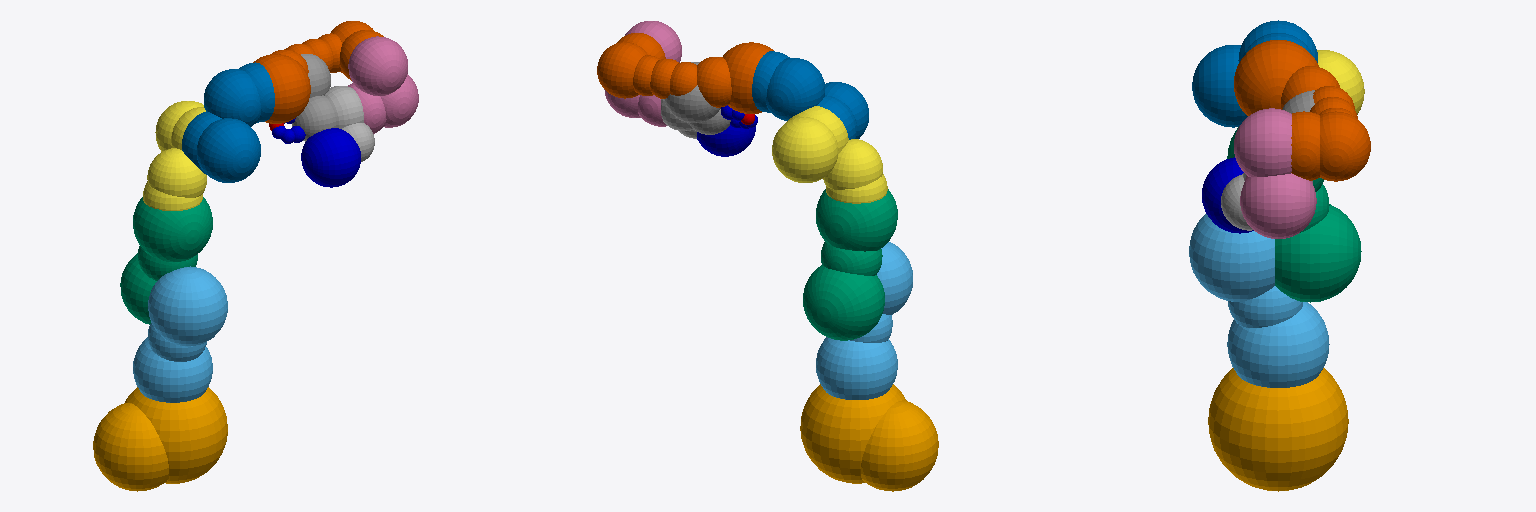
robot.urdf — panda:
<robot name="panda">
    <material name="Blue">
        <color rgba="0.0 0.0 0.8 1.0"/>
    </material>
    <material name="Green">
        <color rgba="0.0 0.8 0.0 1.0"/>
    </material>
    <material name="Grey">
        <color rgba="0.7 0.7 0.7 1.0"/>
    </material>
    <material name="Grey2">
        <color rgba="0.9 0.9 0.9 1.0"/>
    </material>
    <material name="Red">
        <color rgba="0.8 0.0 0.0 1.0"/>
    </material>
    <material name="White">
        <color rgba="1.0 1.0 1.0 1.0"/>
    </material>
    <material name="Black">
        <color rgba="0.1 0.1 0.1 1.0"/>
    </material>
    <material name="LightGrey">
        <color rgba="0.6 0.6 0.6 1.0"/>
    </material>
  <link name="panda_link0">
    <inertial>
      <mass value="3.06"/>
      <origin xyz="0.0 0.0 0.0" rpy="0.0 -0.0 0.0"/>
      <inertia ixx="0.3" iyy="0.3" izz="0.3" ixy="0.0" ixz="0.0" iyz="0.0"/>
    </inertial>
    <visual name="visual">
      <origin xyz="0.0 0.0 0.0" rpy="0.0 -0.0 0.0"/>
      <geometry>
        <mesh filename="package://franka/meshes/visual/link0.dae" scale="1.0 1.0 1.0"/>
      </geometry>
      <material name="LightGrey"/>
    </visual>
    <visual name="ball_0">
      <origin xyz="-0.08 0.0 0.02" rpy="0.0 -0.0 0.0"/>
      <geometry>
        <sphere radius="0.09"/>
      </geometry>
    </visual>
    <visual name="ball_1">
      <origin xyz="0.0 0.0 0.04" rpy="0.0 -0.0 0.0"/>
      <geometry>
        <sphere radius="0.11"/>
      </geometry>
    </visual>
    <collision name="collision">
      <origin xyz="0.0 0.0 0.0" rpy="0.0 -0.0 0.0"/>
      <geometry>
        <mesh filename="package://franka/meshes/collision/link0.stl" scale="1.0 1.0 1.0"/>
      </geometry>
    </collision>
  </link>
  <link name="panda_link1">
    <inertial>
      <mass value="2.34"/>
      <origin xyz="0.0 0.0 0.0" rpy="0.0 -0.0 0.0"/>
      <inertia ixx="0.3" iyy="0.3" izz="0.3" ixy="0.0" ixz="0.0" iyz="0.0"/>
    </inertial>
    <visual name="visual">
      <origin xyz="0.0 0.0 0.0" rpy="0.0 -0.0 0.0"/>
      <geometry>
        <mesh filename="package://franka/meshes/visual/link1.dae" scale="1.0 1.0 1.0"/>
      </geometry>
      <material name="LightGrey"/>
    </visual>
    <visual name="ball_0">
      <origin xyz="0.0 -0.06 0.0" rpy="0.0 -0.0 0.0"/>
      <geometry>
        <sphere radius="0.08"/>
      </geometry>
    </visual>
    <visual name="ball_1">
      <origin xyz="0.0 -0.02 -0.08" rpy="0.0 -0.0 0.0"/>
      <geometry>
        <sphere radius="0.06"/>
      </geometry>
    </visual>
    <visual name="ball_2">
      <origin xyz="0.0 0.0 -0.16" rpy="0.0 -0.0 0.0"/>
      <geometry>
        <sphere radius="0.08"/>
      </geometry>
    </visual>
    <collision name="collision">
      <origin xyz="0.0 0.0 0.0" rpy="0.0 -0.0 0.0"/>
      <geometry>
        <mesh filename="package://franka/meshes/collision/link1.stl" scale="1.0 1.0 1.0"/>
      </geometry>
    </collision>
  </link>
  <link name="panda_link2">
    <inertial>
      <mass value="2.36"/>
      <origin xyz="0.0 0.0 0.0" rpy="0.0 -0.0 0.0"/>
      <inertia ixx="0.3" iyy="0.3" izz="0.3" ixy="0.0" ixz="0.0" iyz="0.0"/>
    </inertial>
    <visual name="visual">
      <origin xyz="0.0 0.0 0.0" rpy="0.0 -0.0 0.0"/>
      <geometry>
        <mesh filename="package://franka/meshes/visual/link2.dae" scale="1.0 1.0 1.0"/>
      </geometry>
      <material name="LightGrey"/>
    </visual>
    <visual name="ball_0">
      <origin xyz="0.0 0.0 0.05" rpy="0.0 -0.0 0.0"/>
      <geometry>
        <sphere radius="0.08"/>
      </geometry>
    </visual>
    <visual name="ball_1">
      <origin xyz="0.0 -0.08 0.02" rpy="0.0 -0.0 0.0"/>
      <geometry>
        <sphere radius="0.06"/>
      </geometry>
    </visual>
    <visual name="ball_2">
      <origin xyz="0.0 -0.16 0.0" rpy="0.0 -0.0 0.0"/>
      <geometry>
        <sphere radius="0.08"/>
      </geometry>
    </visual>
    <collision name="collision">
      <origin xyz="0.0 0.0 0.0" rpy="0.0 -0.0 0.0"/>
      <geometry>
        <mesh filename="package://franka/meshes/collision/link2.stl" scale="1.0 1.0 1.0"/>
      </geometry>
    </collision>
  </link>
  <link name="panda_link3">
    <inertial>
      <mass value="2.38"/>
      <origin xyz="0.0 0.0 0.0" rpy="0.0 -0.0 0.0"/>
      <inertia ixx="0.3" iyy="0.3" izz="0.3" ixy="0.0" ixz="0.0" iyz="0.0"/>
    </inertial>
    <visual name="visual">
      <origin xyz="0.0 0.0 0.0" rpy="0.0 -0.0 0.0"/>
      <geometry>
        <mesh filename="package://franka/meshes/visual/link3.dae" scale="1.0 1.0 1.0"/>
      </geometry>
      <material name="LightGrey"/>
    </visual>
    <visual name="ball_0">
      <origin xyz="0.0 0.0 -0.1" rpy="0.0 -0.0 0.0"/>
      <geometry>
        <sphere radius="0.06"/>
      </geometry>
    </visual>
    <visual name="ball_1">
      <origin xyz="0.01 0.0 -0.06" rpy="0.0 -0.0 0.0"/>
      <geometry>
        <sphere radius="0.06"/>
      </geometry>
    </visual>
    <visual name="ball_2">
      <origin xyz="0.08 0.02 0.0" rpy="0.0 -0.0 0.0"/>
      <geometry>
        <sphere radius="0.065"/>
      </geometry>
    </visual>
    <visual name="ball_3">
      <origin xyz="0.075 0.07 -0.005" rpy="0.0 -0.0 0.0"/>
      <geometry>
        <sphere radius="0.065"/>
      </geometry>
    </visual>
    <collision name="collision">
      <origin xyz="0.0 0.0 0.0" rpy="0.0 -0.0 0.0"/>
      <geometry>
        <mesh filename="package://franka/meshes/collision/link3.stl" scale="1.0 1.0 1.0"/>
      </geometry>
    </collision>
  </link>
  <link name="panda_link4">
    <inertial>
      <mass value="2.43"/>
      <origin xyz="0.0 0.0 0.0" rpy="0.0 -0.0 0.0"/>
      <inertia ixx="0.3" iyy="0.3" izz="0.3" ixy="0.0" ixz="0.0" iyz="0.0"/>
    </inertial>
    <visual name="visual">
      <origin xyz="0.0 0.0 0.0" rpy="0.0 -0.0 0.0"/>
      <geometry>
        <mesh filename="package://franka/meshes/visual/link4.dae" scale="1.0 1.0 1.0"/>
      </geometry>
      <material name="LightGrey"/>
    </visual>
    <visual name="ball_0">
      <origin xyz="-0.085 0.11 0.0" rpy="0.0 -0.0 0.0"/>
      <geometry>
        <sphere radius="0.06"/>
      </geometry>
    </visual>
    <visual name="ball_1">
      <origin xyz="-0.08 0.06 0.0" rpy="0.0 -0.0 0.0"/>
      <geometry>
        <sphere radius="0.0625"/>
      </geometry>
    </visual>
    <visual name="ball_2">
      <origin xyz="-0.005 0.0 0.015" rpy="0.0 -0.0 0.0"/>
      <geometry>
        <sphere radius="0.065"/>
      </geometry>
    </visual>
    <visual name="ball_3">
      <origin xyz="-0.01 0.005 0.07" rpy="0.0 -0.0 0.0"/>
      <geometry>
        <sphere radius="0.065"/>
      </geometry>
    </visual>
    <collision name="collision">
      <origin xyz="0.0 0.0 0.0" rpy="0.0 -0.0 0.0"/>
      <geometry>
        <mesh filename="package://franka/meshes/collision/link4.stl" scale="1.0 1.0 1.0"/>
      </geometry>
    </collision>
  </link>
  <link name="panda_link5">
    <inertial>
      <mass value="3.5"/>
      <origin xyz="0.0 0.0 0.0" rpy="0.0 -0.0 0.0"/>
      <inertia ixx="0.3" iyy="0.3" izz="0.3" ixy="0.0" ixz="0.0" iyz="0.0"/>
    </inertial>
    <visual name="visual">
      <origin xyz="0.0 0.0 0.0" rpy="0.0 -0.0 0.0"/>
      <geometry>
        <mesh filename="package://franka/meshes/visual/link5.dae" scale="1.0 1.0 1.0"/>
      </geometry>
      <material name="LightGrey"/>
    </visual>
    <visual name="ball_0">
      <origin xyz="0.0 0.04 0.0" rpy="0.0 -0.0 0.0"/>
      <geometry>
        <sphere radius="0.055"/>
      </geometry>
    </visual>
    <visual name="ball_1">
      <origin xyz="0.0 0.09 0.0" rpy="0.0 -0.0 0.0"/>
      <geometry>
        <sphere radius="0.055"/>
      </geometry>
    </visual>
    <visual name="ball_2">
      <origin xyz="0.0 0.09 -0.05" rpy="0.0 -0.0 0.0"/>
      <geometry>
        <sphere radius="0.04"/>
      </geometry>
    </visual>
    <visual name="ball_3">
      <origin xyz="0.0 0.085 -0.09" rpy="0.0 -0.0 0.0"/>
      <geometry>
        <sphere radius="0.04"/>
      </geometry>
    </visual>
    <visual name="ball_4">
      <origin xyz="0.0 0.08 -0.13" rpy="0.0 -0.0 0.0"/>
      <geometry>
        <sphere radius="0.04"/>
      </geometry>
    </visual>
    <visual name="ball_5">
      <origin xyz="0.0 0.05 -0.18" rpy="0.0 -0.0 0.0"/>
      <geometry>
        <sphere radius="0.05"/>
      </geometry>
    </visual>
    <visual name="ball_6">
      <origin xyz="0.0 0.0 -0.23" rpy="0.0 -0.0 0.0"/>
      <geometry>
        <sphere radius="0.07"/>
      </geometry>
    </visual>
    <collision name="collision">
      <origin xyz="0.0 0.0 0.0" rpy="0.0 -0.0 0.0"/>
      <geometry>
        <mesh filename="package://franka/meshes/collision/link5.stl" scale="1.0 1.0 1.0"/>
      </geometry>
    </collision>
  </link>
  <link name="panda_link6">
    <inertial>
      <mass value="1.47"/>
      <origin xyz="0.0 0.0 0.0" rpy="0.0 -0.0 0.0"/>
      <inertia ixx="0.3" iyy="0.3" izz="0.3" ixy="0.0" ixz="0.0" iyz="0.0"/>
    </inertial>
    <visual name="visual">
      <origin xyz="0.0 0.0 0.0" rpy="0.0 -0.0 0.0"/>
      <geometry>
        <mesh filename="package://franka/meshes/visual/link6.dae" scale="1.0 1.0 1.0"/>
      </geometry>
      <material name="LightGrey"/>
    </visual>
    <visual name="ball_0">
      <origin xyz="0.0 0.0 0.01" rpy="0.0 -0.0 0.0"/>
      <geometry>
        <sphere radius="0.06"/>
      </geometry>
    </visual>
    <visual name="ball_1">
      <origin xyz="0.08 0.03 0.0" rpy="0.0 -0.0 0.0"/>
      <geometry>
        <sphere radius="0.06"/>
      </geometry>
    </visual>
    <visual name="ball_2">
      <origin xyz="0.09 -0.03 0.0" rpy="0.0 -0.0 0.0"/>
      <geometry>
        <sphere radius="0.055"/>
      </geometry>
    </visual>
    <collision name="collision">
      <origin xyz="0.0 0.0 0.0" rpy="0.0 -0.0 0.0"/>
      <geometry>
        <mesh filename="package://franka/meshes/collision/link6.stl" scale="1.0 1.0 1.0"/>
      </geometry>
    </collision>
  </link>
  <link name="panda_link7">
    <inertial>
      <mass value="0.45"/>
      <origin xyz="0.0 0.0 0.0" rpy="0.0 -0.0 0.0"/>
      <inertia ixx="0.3" iyy="0.3" izz="0.3" ixy="0.0" ixz="0.0" iyz="0.0"/>
    </inertial>
    <visual name="visual">
      <origin xyz="0.0 0.0 0.0" rpy="0.0 -0.0 0.0"/>
      <geometry>
        <mesh filename="package://franka/meshes/visual/link7.dae" scale="1.0 1.0 1.0"/>
      </geometry>
      <material name="LightGrey"/>
    </visual>
    <visual name="ball_0">
      <origin xyz="0.0 0.0 0.08" rpy="0.0 -0.0 0.0"/>
      <geometry>
        <sphere radius="0.055"/>
      </geometry>
    </visual>
    <visual name="ball_1">
      <origin xyz="0.045 0.045 0.08" rpy="0.0 -0.0 0.0"/>
      <geometry>
        <sphere radius="0.045"/>
      </geometry>
    </visual>
    <visual name="ball_2">
      <origin xyz="-0.005 -0.005 0.225" rpy="0.0 -0.0 0.0"/>
      <geometry>
        <sphere radius="0.015"/>
      </geometry>
      <material name="Red"/>
    </visual>
    <visual name="ball_3">
      <origin xyz="-0.015 -0.015 0.21" rpy="0.0 -0.0 0.0"/>
      <geometry>
        <sphere radius="0.015"/>
      </geometry>
      <material name="Blue"/>
    </visual>
    <visual name="ball_4">
      <origin xyz="-0.015 -0.015 0.19" rpy="0.0 -0.0 0.0"/>
      <geometry>
        <sphere radius="0.0175"/>
      </geometry>
      <material name="Blue"/>
    </visual>
    <visual name="ball_5">
      <origin xyz="0.005 0.005 0.225" rpy="0.0 -0.0 0.0"/>
      <geometry>
        <sphere radius="0.015"/>
      </geometry>
      <material name="Blue"/>
    </visual>
    <visual name="ball_6">
      <origin xyz="0.015 0.015 0.21" rpy="0.0 -0.0 0.0"/>
      <geometry>
        <sphere radius="0.015"/>
      </geometry>
      <material name="Blue"/>
    </visual>
    <visual name="ball_7">
      <origin xyz="0.015 0.015 0.19" rpy="0.0 -0.0 0.0"/>
      <geometry>
        <sphere radius="0.0175"/>
      </geometry>
      <material name="Blue"/>
    </visual>
    <visual name="ball_8">
      <origin xyz="-0.06 -0.06 0.137" rpy="0.0 -0.0 0.0"/>
      <geometry>
        <sphere radius="0.06"/>
      </geometry>
      <material name="LightGrey"/>
    </visual>
    <visual name="ball_9">
      <origin xyz="0.0 0.0 0.137" rpy="0.0 -0.0 0.0"/>
      <geometry>
        <sphere radius="0.05"/>
      </geometry>
      <material name="LightGrey"/>
    </visual>
    <visual name="ball_10">
      <origin xyz="0.06 0.06 0.137" rpy="0.0 -0.0 0.0"/>
      <geometry>
        <sphere radius="0.06"/>
      </geometry>
      <material name="Blue"/>
    </visual>
    <collision name="collision">
      <origin xyz="0.0 0.0 0.0" rpy="0.0 -0.0 0.0"/>
      <geometry>
        <mesh filename="package://franka/meshes/collision/link7.stl" scale="1.0 1.0 1.0"/>
      </geometry>
    </collision>
  </link>
  <link name="panda_link8">
    <inertial>
      <mass value="1e-05"/>
      <origin xyz="0.0 0.0 0.0" rpy="0.0 -0.0 0.0"/>
      <inertia ixx="0.3" iyy="0.3" izz="0.3" ixy="0.0" ixz="0.0" iyz="0.0"/>
    </inertial>
  </link>
  <link name="panda_hand">
    <inertial>
      <mass value="0.68"/>
      <origin xyz="0.0 0.0 0.0" rpy="0.0 -0.0 0.0"/>
      <inertia ixx="0.1" iyy="0.1" izz="0.1" ixy="0.0" ixz="0.0" iyz="0.0"/>
    </inertial>
    <visual name="visual">
      <origin xyz="0.0 0.0 0.0" rpy="0.0 -0.0 0.0"/>
      <geometry>
        <mesh filename="package://franka/meshes/visual/hand.dae" scale="1.0 1.0 1.0"/>
      </geometry>
      <material name="">
        <material name="LightGrey"/>
      </material>
    </visual>
    
    <collision name="collision">
      <origin xyz="0.0 0.0 0.0" rpy="0.0 -0.0 0.0"/>
      <geometry>
        <mesh filename="package://franka/meshes/collision/hand.stl" scale="1.0 1.0 1.0"/>
      </geometry>
    </collision>
  </link>
  <link name="panda_leftfinger">
    <inertial>
      <mass value="0.01"/>
      <origin xyz="0.0 0.0 0.0" rpy="0.0 -0.0 0.0"/>
      <inertia ixx="0.1" iyy="0.1" izz="0.1" ixy="0.0" ixz="0.0" iyz="0.0"/>
    </inertial>
    <visual name="visual">
      <origin xyz="0.0 0.0 0.0" rpy="0.0 -0.0 0.0"/>
      <geometry>
        <mesh filename="package://franka/meshes/visual/finger.dae" scale="1.0 1.0 1.0"/>
      </geometry>
      <material name="White"/>
    </visual>
    <collision name="collision">
      <origin xyz="0.0 0.0 0.0" rpy="0.0 -0.0 0.0"/>
      <geometry>
        <mesh filename="package://franka/meshes/collision/finger.stl" scale="1.0 1.0 1.0"/>
      </geometry>
    </collision>
  </link>
  <link name="panda_rightfinger">
    <inertial>
      <mass value="0.01"/>
      <origin xyz="0.0 0.0 0.0" rpy="0.0 -0.0 0.0"/>
      <inertia ixx="0.1" iyy="0.1" izz="0.1" ixy="0.0" ixz="0.0" iyz="0.0"/>
    </inertial>
    <visual name="visual">
      <origin xyz="0.0 0.0 0.0" rpy="0.0 -0.0 -3.1415926535895866"/>
      <geometry>
        <mesh filename="package://franka/meshes/visual/finger.dae" scale="1.0 1.0 1.0"/>
      </geometry>
      <material name="White"/>
    </visual>
    
    <collision name="collision">
      <origin xyz="0.0 0.0 0.0" rpy="0.0 -0.0 -3.1415926535895866"/>
      <geometry>
        <mesh filename="package://franka/meshes/collision/finger.stl" scale="1.0 1.0 1.0"/>
      </geometry>
    </collision>
  </link>
  <joint name="panda_joint1" type="revolute">
    <parent link="panda_link0"/>
    <child link="panda_link1"/>
    <limit lower="-2.8973" upper="2.8973" effort="87.0" velocity="2.175"/>
    <axis xyz="0.0 0.0 1.0"/>
    <dynamics damping="1.0" friction="0.0"/>
    <origin xyz="0.0 0.0 0.333" rpy="0.0 -0.0 0.0"/>
  </joint>
  <joint name="panda_joint2" type="revolute">
    <parent link="panda_link1"/>
    <child link="panda_link2"/>
    <limit lower="-1.7628" upper="1.7628" effort="87.0" velocity="2.175"/>
    <axis xyz="0.0 0.0 1.0"/>
    <dynamics damping="1.0" friction="0.0"/>
    <origin xyz="0.0 0.0 0.0" rpy="-1.57079632679 0.0 0.0"/>
  </joint>
  <joint name="panda_joint3" type="revolute">
    <parent link="panda_link2"/>
    <child link="panda_link3"/>
    <limit lower="-2.8973" upper="2.8973" effort="87.0" velocity="2.175"/>
    <axis xyz="0.0 0.0 1.0"/>
    <dynamics damping="1.0" friction="0.0"/>
    <origin xyz="0.0 -0.31600000000000006 -3.418232909935797e-28" rpy="1.57079632679 -0.0 0.0"/>
  </joint>
  <joint name="panda_joint4" type="revolute">
    <parent link="panda_link3"/>
    <child link="panda_link4"/>
    <limit lower="-3.0718" upper="-0.0698" effort="87.0" velocity="2.175"/>
    <axis xyz="0.0 0.0 1.0"/>
    <dynamics damping="1.0" friction="0.0"/>
    <origin xyz="0.0825 0.0 0.0" rpy="1.57079632679 -0.0 0.0"/>
  </joint>
  <joint name="panda_joint5" type="revolute">
    <parent link="panda_link4"/>
    <child link="panda_link5"/>
    <limit lower="-2.8973" upper="2.8973" effort="12.0" velocity="2.61"/>
    <axis xyz="0.0 0.0 1.0"/>
    <dynamics damping="1.0" friction="0.0"/>
    <origin xyz="-0.0825 0.38400000000000023 1.0846837446788912e-29" rpy="-1.57079632679 0.0 0.0"/>
  </joint>
  <joint name="panda_joint6" type="revolute">
    <parent link="panda_link5"/>
    <child link="panda_link6"/>
    <limit lower="-0.0175" upper="3.7525" effort="12.0" velocity="2.61"/>
    <axis xyz="0.0 0.0 1.0"/>
    <dynamics damping="1.0" friction="0.0"/>
    <origin xyz="0.0 0.0 0.0" rpy="1.57079632679 -0.0 0.0"/>
  </joint>
  <joint name="panda_joint7" type="revolute">
    <parent link="panda_link6"/>
    <child link="panda_link7"/>
    <limit lower="-2.8973" upper="2.8973" effort="12.0" velocity="2.61"/>
    <axis xyz="0.0 0.0 1.0"/>
    <dynamics damping="1.0" friction="0.0"/>
    <origin xyz="0.088 0.0 0.0" rpy="1.57079632679 -0.0 0.0"/>
  </joint>
  <joint name="panda_joint8" type="fixed">
    <parent link="panda_link7"/>
    <child link="panda_link8"/>
    <limit lower="0" upper="0" effort="0" velocity="0"/>
    <origin xyz="0.0 4.845297921863539e-28 0.10700000000000003" rpy="0.0 -0.0 -0.7874"/>
  </joint>
  <joint name="panda_hand_joint" type="fixed">
    <parent link="panda_link8"/>
    <child link="panda_hand"/>
    <limit lower="0" upper="0" effort="0" velocity="0"/>
    <origin xyz="0.0 0.0 0.0" rpy="0 0 0.0"/>
  </joint>
  <joint name="panda_finger_joint1" type="prismatic">
    <parent link="panda_hand"/>
    <child link="panda_leftfinger"/>
    <limit lower="0.0" upper="0.04" effort="10000.0" velocity="0.1"/>
    <axis xyz="0.0 1.0 0.0"/>
    <dynamics damping="0.0" friction="0.0"/>
    <origin xyz="4.92356258589313e-19 4.923562586112739e-19 0.058400000000000035" rpy="4.484155085839416e-44 8.077935669463163e-28 1.1102230246251568e-16"/>
  </joint>
  <joint name="panda_finger_joint2" type="prismatic">
    <parent link="panda_hand"/>
    <child link="panda_rightfinger"/>
    <limit lower="0.0" upper="0.04" effort="10000.0" velocity="0.1"/>
    <axis xyz="0.0 1.0 0.0"/>
    <dynamics damping="0.0" friction="0.0"/>
    <origin xyz="4.92356258589313e-19 4.923562586112739e-19 0.058400000000000035" rpy="4.484155085839416e-44 8.077935669463163e-28 1.1102230246251568e-16"/>
  </joint>
</robot>

--- What the picture shows (computed from the rendered views, not written in the file) ---
Views: 3 orthographic renders of the robot side by side, from view 1: azimuth 30°, elevation 25°; view 2: azimuth 150°, elevation 25°; view 3: azimuth 270°, elevation 25°.
Model panda with 12 links and 11 joints (7 revolute, 2 prismatic, 2 fixed), rooted at panda_link0, posed all joints at 0 but 1 set to mid-range because 0 is outside their limits (panda_joint4 = -1.57).
Links seen in each view (by area): view 1: panda_link0, panda_link1, panda_link4, panda_link7, panda_link2, panda_link6, panda_link5, panda_link3; view 2: panda_link0, panda_link2, panda_link5, panda_link3, panda_link1, panda_link4, panda_link7, panda_link6; view 3: panda_link1, panda_link0, panda_link5, panda_link6, panda_link2, panda_link4, panda_link7, panda_link3.
Boxes of the visible links, left/top/right/bottom form: panda_link0: left=93, top=387, right=227, bottom=491; panda_link1: left=133, top=266, right=227, bottom=402; panda_link4: left=182, top=62, right=274, bottom=182; panda_link7: left=269, top=54, right=374, bottom=187; panda_link2: left=120, top=197, right=212, bottom=324; panda_link6: left=348, top=36, right=418, bottom=133; panda_link5: left=253, top=21, right=383, bottom=123; panda_link3: left=143, top=101, right=206, bottom=210; panda_link0: left=800, top=384, right=938, bottom=491; panda_link2: left=803, top=189, right=897, bottom=340; panda_link5: left=597, top=33, right=773, bottom=113; panda_link3: left=772, top=106, right=887, bottom=203; panda_link1: left=816, top=242, right=912, bottom=399; panda_link4: left=752, top=51, right=868, bottom=139; panda_link7: left=661, top=62, right=757, bottom=156; panda_link6: left=604, top=21, right=681, bottom=126; panda_link1: left=1189, top=214, right=1329, bottom=387; panda_link0: left=1208, top=368, right=1348, bottom=491; panda_link5: left=1234, top=40, right=1370, bottom=181; panda_link6: left=1234, top=108, right=1316, bottom=238; panda_link2: left=1227, top=127, right=1361, bottom=302; panda_link4: left=1192, top=20, right=1317, bottom=127; panda_link7: left=1202, top=90, right=1314, bottom=233; panda_link3: left=1317, top=50, right=1364, bottom=114.
Bounding box of the posed robot: 0.7265 × 0.285 × 0.8715 m (x, y, z).
Meshes: 10 distinct files referenced, 0 mesh visuals loaded (none loaded); not drawn: 11 (reference not matched to a file when rendering).